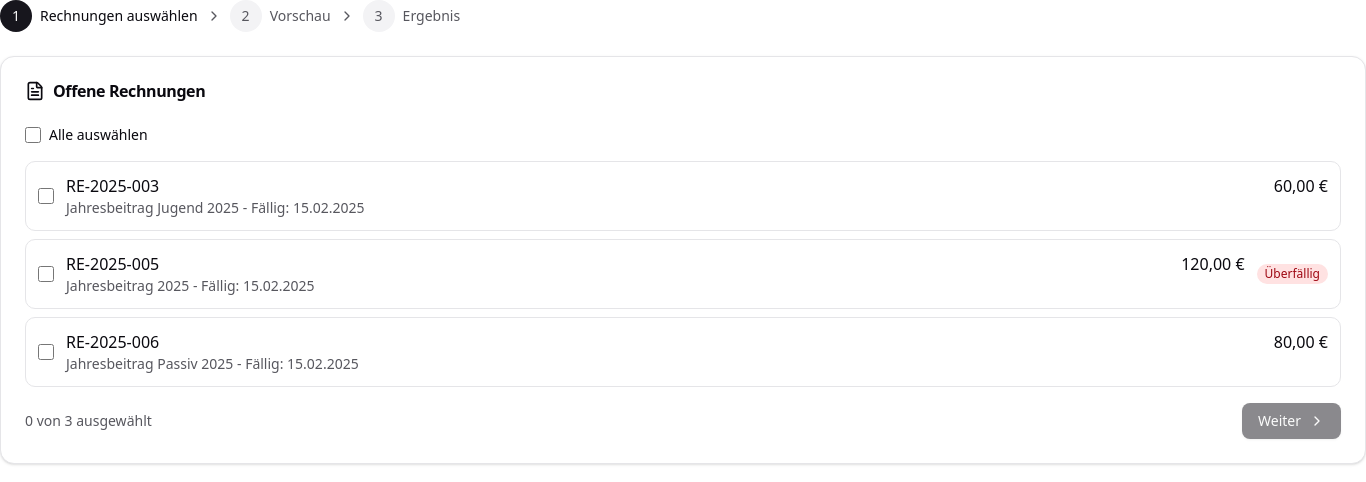
Scenario: SepaGenerator › step navigation - clicking Weiter advances to step 2
Check: the text "RE-2025-003" is shown, box [66,174,159,198]
Click the 2nd checkbox: (46, 196) [38,188,54,204]
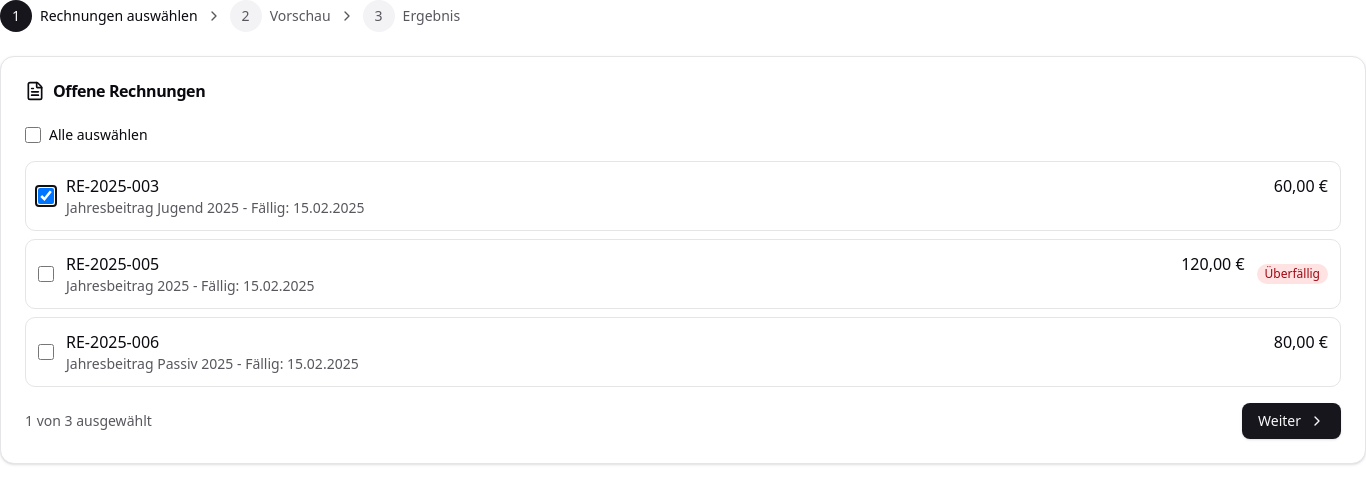
// Click Weiter
Click the button "Weiter": (1292, 421) [1242,403,1341,439]
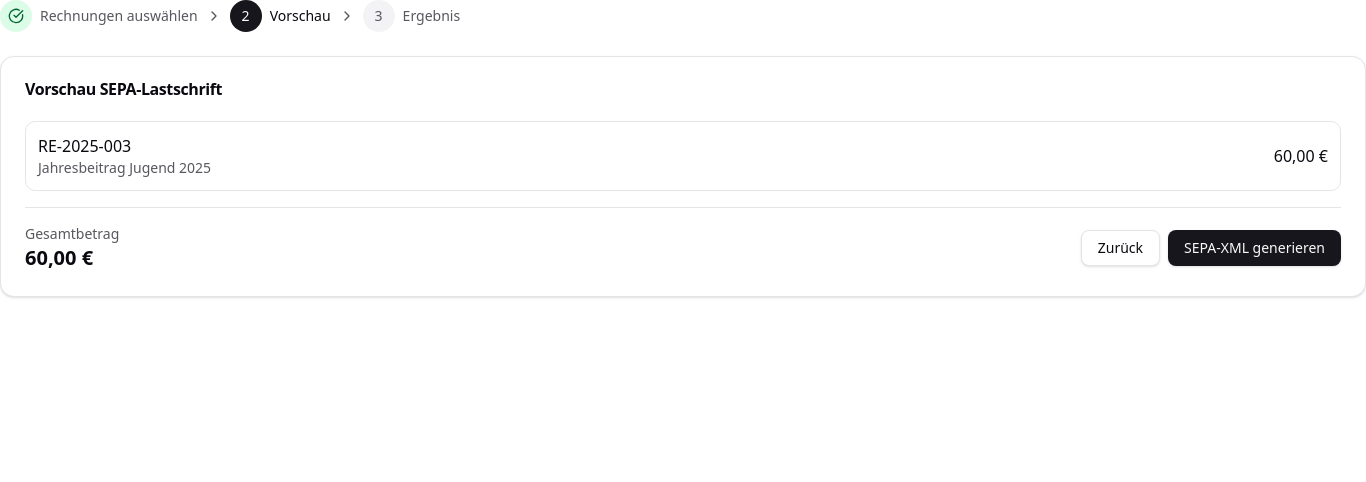
Check: the text "RE-2025-003" is shown, box [38,135,131,157]
Check: the text "Vorschau SEPA-Lastschrift" is shown, box [25,78,222,100]
Check: the button "SEPA-XML generieren" is shown, box [1168,230,1341,266]
